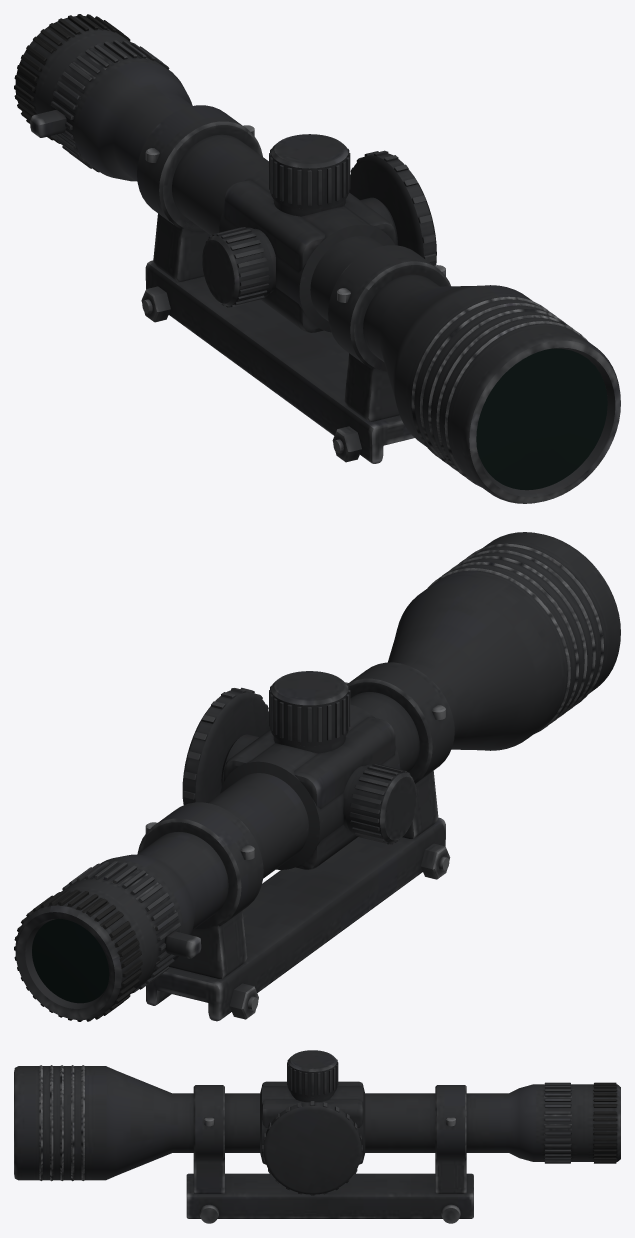
File: scope_8x.glb
3 renders of one model, top to bottom at view 1: azimuth 30°, elevation 25°; view 2: azimuth 150°, elevation 25°; view 3: azimuth 270°, elevation 25°, orthographic. The views are drawn at different scales.
Parts seen in each view (by area): view 1: body, lens_front; view 2: body, lens; view 3: body.
Part boxes in pixels (bbox=[...]): body: bbox=[14, 14, 620, 503]; lens_front: bbox=[476, 348, 607, 489]; body: bbox=[14, 532, 620, 1021]; lens: bbox=[32, 918, 109, 1002]; body: bbox=[14, 1050, 620, 1223].
Bounding box in the file's own units: 0.076 × 0.0951 × 0.3465.
Materials: 2 (1 with a texture image).
